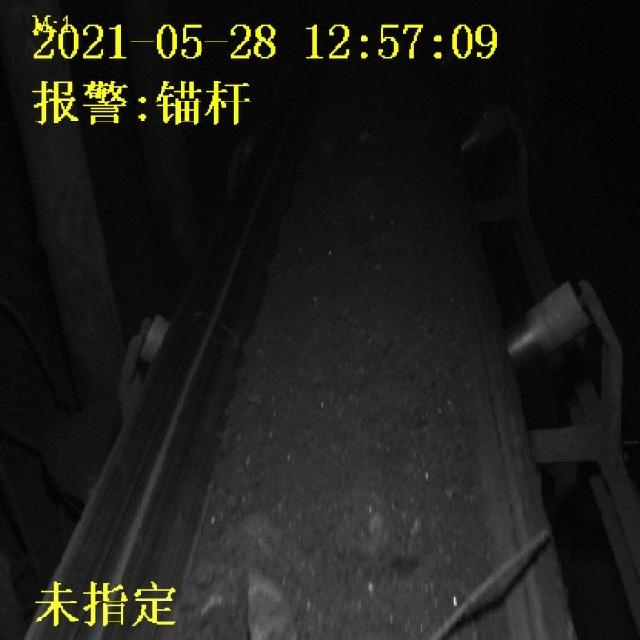bolt: (435, 532, 548, 638)
large_sized_coal: (241, 561, 296, 640)
